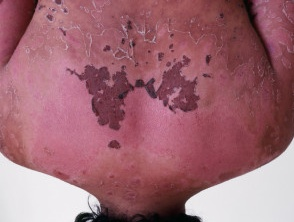SJS-TEN: (0, 0, 294, 219)
